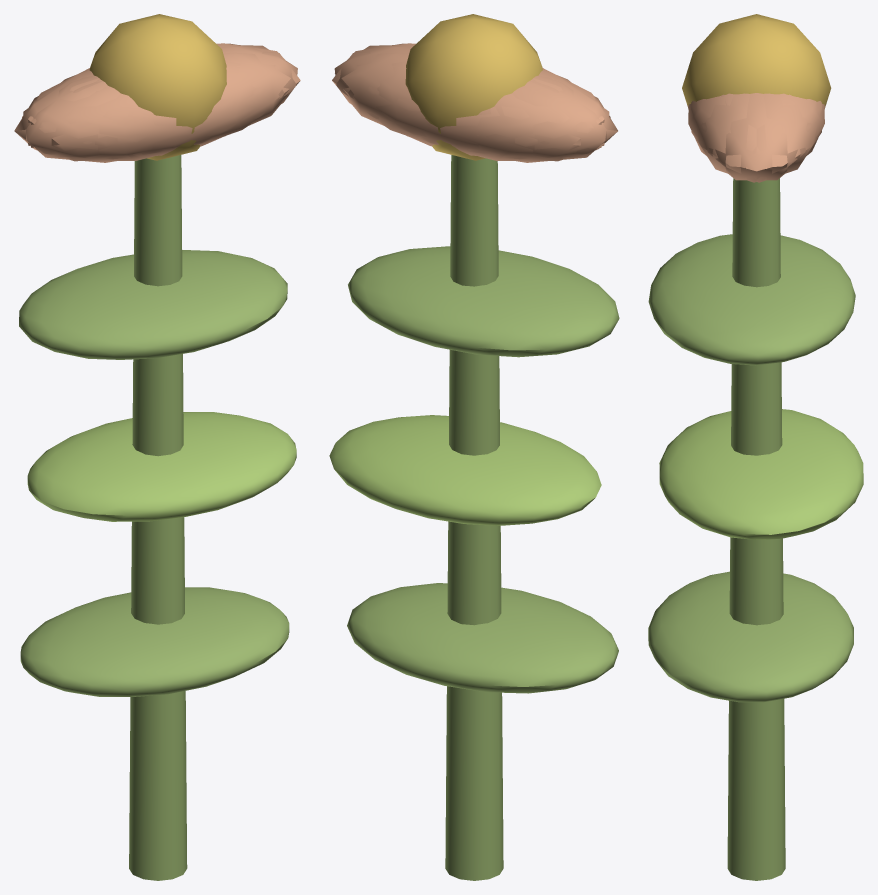
File: gomphrena-serrata.glb
3 views of the same model, side by side, from view 1: azimuth 30°, elevation 25°; view 2: azimuth 150°, elevation 25°; view 3: azimuth 270°, elevation 25° (orthographic).
Visible parts, largest first — view 1: stem, leaf2, leaf0, leaf1, center, petal6, petal2, petal1, petal5, petal7, petal0; view 2: stem, leaf2, leaf1, leaf0, center, petal3, petal7, petal8, petal4, petal2, petal0; view 3: stem, leaf1, leaf2, leaf0, center, petal0, petal4, petal5, petal1, petal8.
Boxes of the visible parts, left/top/right/bottom form: stem: left=129, top=155, right=187, bottom=880; leaf2: left=19, top=250, right=287, bottom=359; leaf0: left=20, top=587, right=289, bottom=696; leaf1: left=27, top=412, right=296, bottom=521; center: left=89, top=14, right=226, bottom=160; petal6: left=30, top=80, right=214, bottom=161; petal2: left=23, top=75, right=164, bottom=162; petal1: left=95, top=61, right=284, bottom=159; petal5: left=154, top=51, right=300, bottom=151; petal7: left=14, top=70, right=107, bottom=154; petal0: left=220, top=45, right=297, bottom=136; stem: left=445, top=155, right=503, bottom=880; leaf2: left=348, top=246, right=619, bottom=357; leaf1: left=329, top=415, right=601, bottom=525; leaf0: left=347, top=583, right=618, bottom=693; center: left=405, top=14, right=542, bottom=160; petal3: left=418, top=80, right=601, bottom=161; petal7: left=468, top=75, right=609, bottom=162; petal8: left=348, top=61, right=537, bottom=159; petal4: left=332, top=51, right=478, bottom=151; petal2: left=525, top=70, right=617, bottom=154; petal0: left=334, top=45, right=411, bottom=136; stem: left=727, top=178, right=785, bottom=880; leaf1: left=659, top=409, right=863, bottom=539; leaf2: left=648, top=234, right=855, bottom=365; leaf0: left=648, top=571, right=853, bottom=702; center: left=682, top=14, right=831, bottom=106; petal0: left=701, top=93, right=811, bottom=180; petal4: left=745, top=93, right=821, bottom=182; petal5: left=691, top=93, right=767, bottom=182; petal1: left=688, top=93, right=734, bottom=156; petal8: left=778, top=93, right=824, bottom=156.
Bounding box in the file's own units: 0.1541 × 0.4511 × 0.1038.
